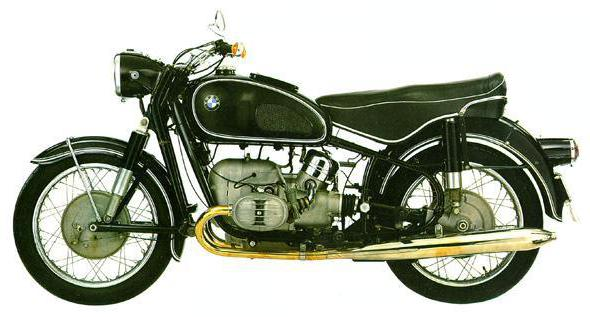motorcycle: (3, 5, 590, 313)
